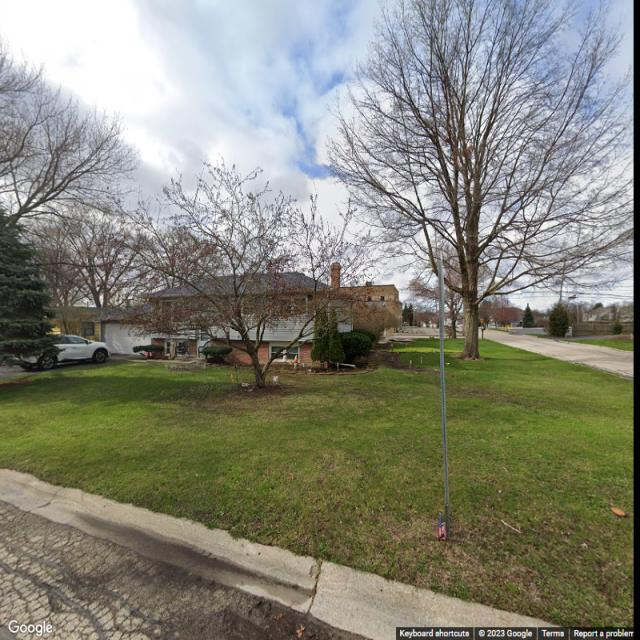House: (99, 264, 354, 369), (339, 282, 402, 336), (46, 304, 100, 340)
